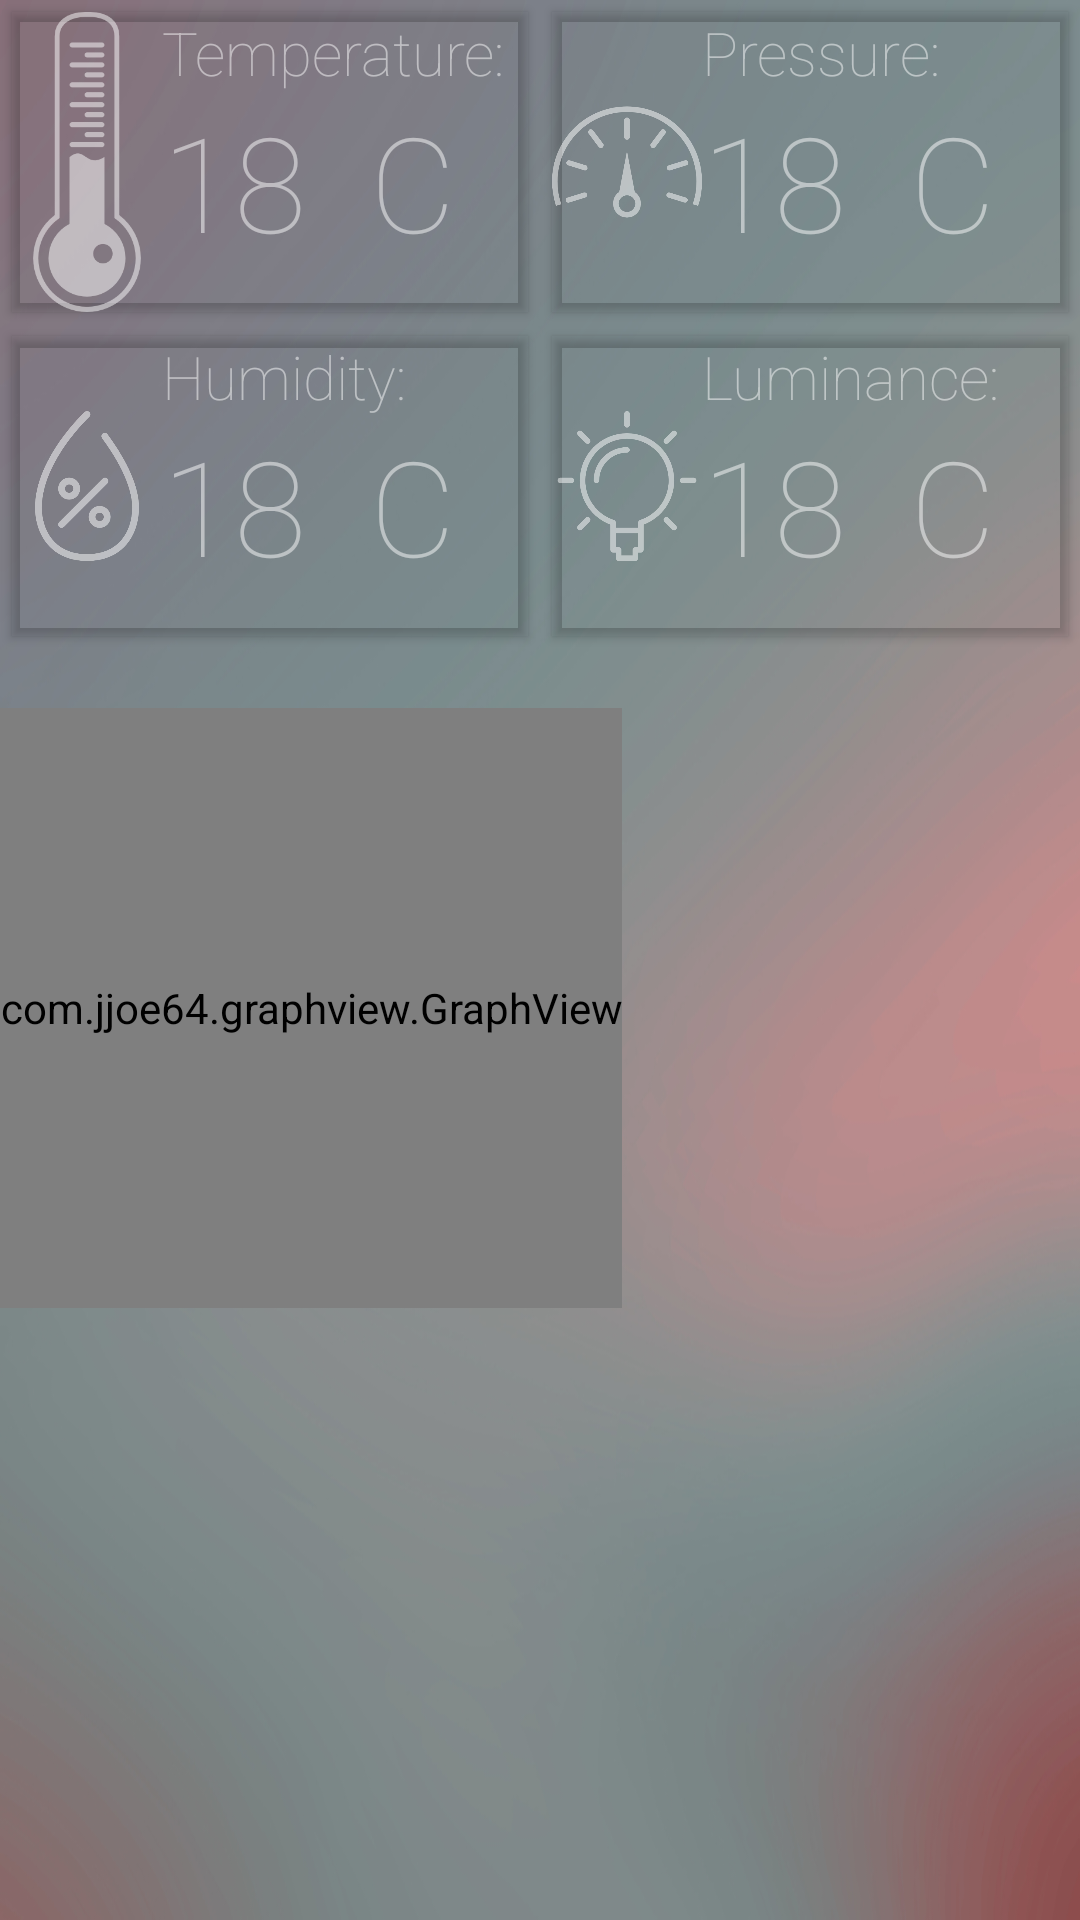

Named icons in this screenshot (1080 × 1920) and their centers, point (x, y):
thermometer: point (87, 162)
